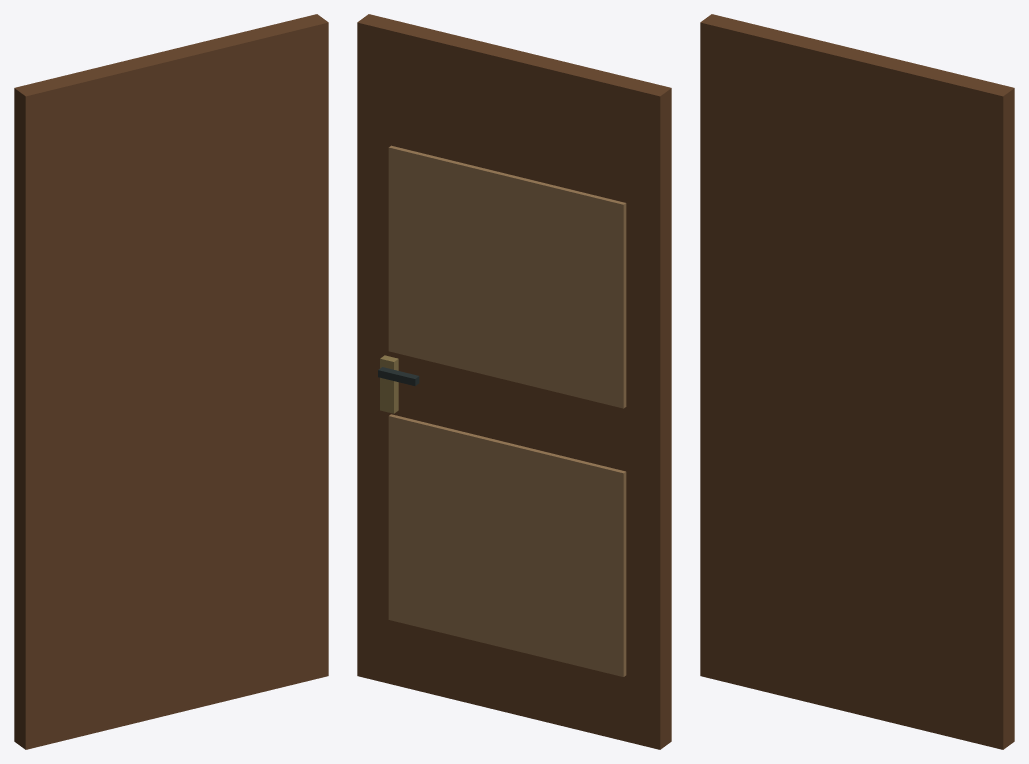
The model's file is wooden_door.glb.
3 renders of one model, left to right at view 1: azimuth 30°, elevation 25°; view 2: azimuth 150°, elevation 25°; view 3: azimuth 330°, elevation 25°, orthographic.
Parts seen in each view (by area): view 1: wooden_door; view 2: wooden_door; view 3: wooden_door.
Part boxes in pixels (bbox=[...]): wooden_door: bbox=[14, 14, 328, 749]; wooden_door: bbox=[357, 14, 671, 749]; wooden_door: bbox=[700, 14, 1014, 749].
Bounding box in the file's own units: 0.98 × 2.02 × 0.1385.
